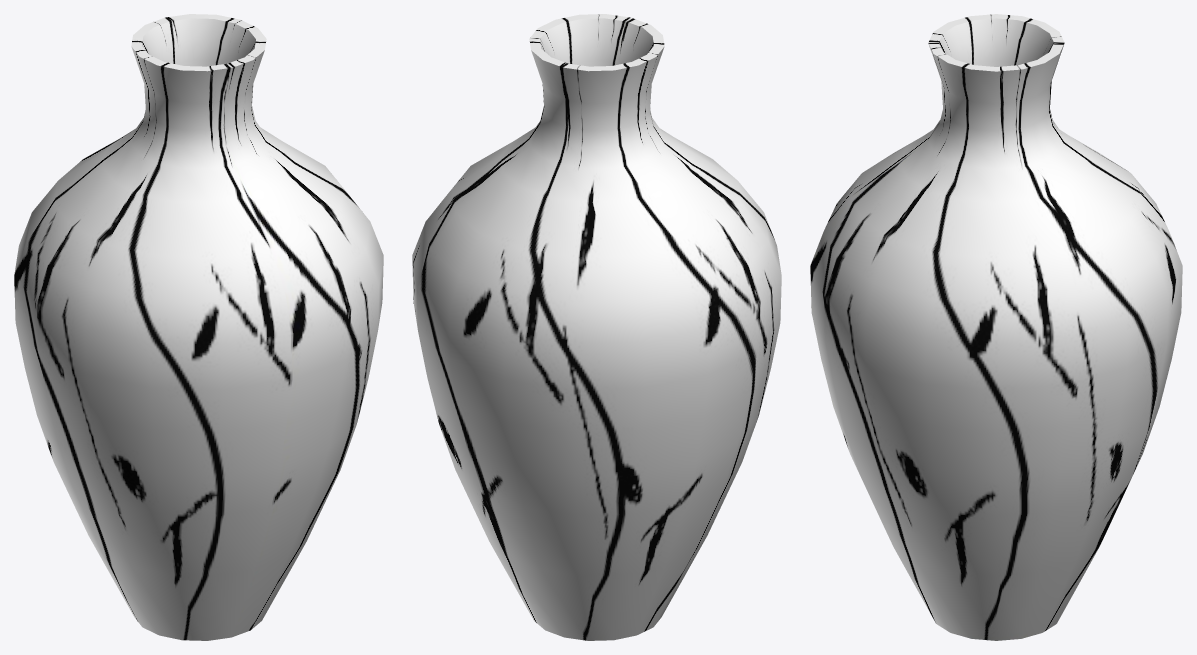
The model's file is M_Vas.fbx.
3 views of the same model, side by side, from view 1: azimuth 30°, elevation 25°; view 2: azimuth 150°, elevation 25°; view 3: azimuth 270°, elevation 25° (orthographic).
Visible parts, largest first — view 1: Vas; view 2: Vas; view 3: Vas.
Part boxes in pixels (left/top/right/bottom): Vas: left=14, top=14, right=383, bottom=640; Vas: left=412, top=14, right=781, bottom=640; Vas: left=810, top=14, right=1182, bottom=640.
Bounding box in the file's own units: 65.21 × 110 × 65.21.
